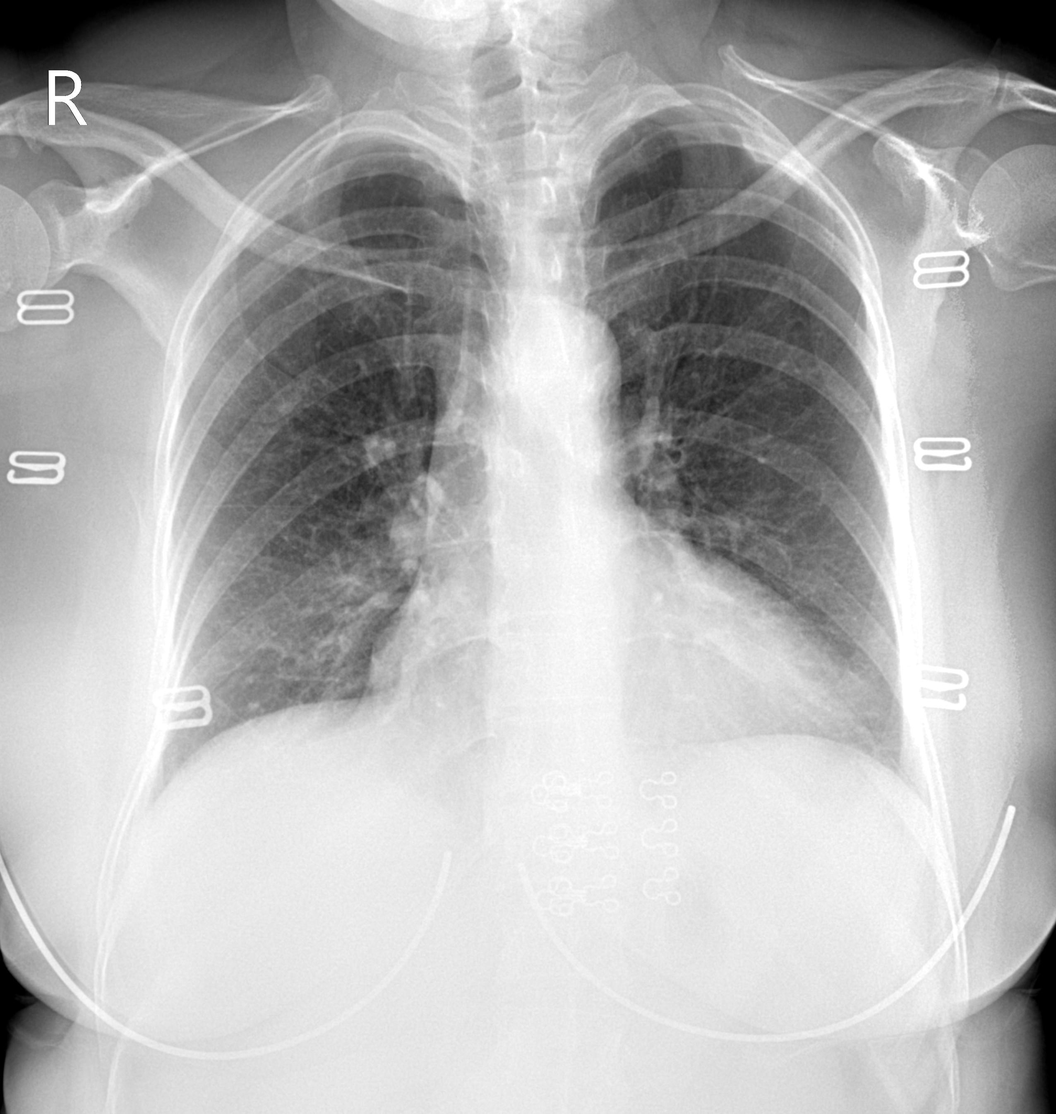Aortic enlargement: (418, 390, 578, 562)
Cardiomegaly: (372, 589, 870, 765)
Pleural thickening: (727, 115, 817, 185), (326, 130, 437, 173)
